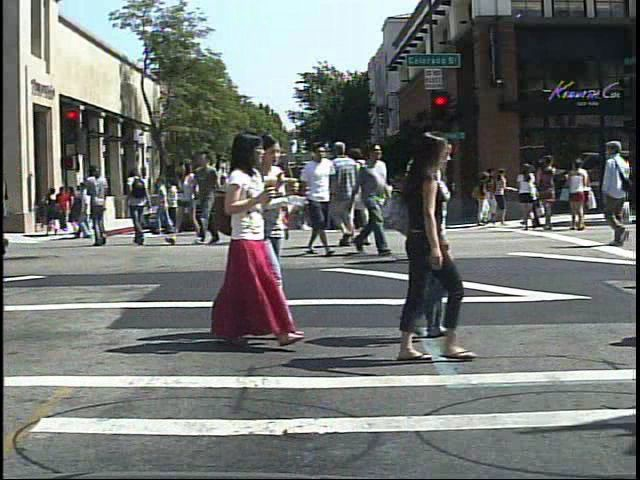person: (366, 130, 495, 366), (211, 127, 297, 351), (388, 132, 473, 344), (397, 133, 453, 264), (253, 131, 289, 316), (365, 137, 411, 261), (299, 134, 339, 261), (599, 133, 634, 249), (331, 139, 367, 247), (166, 156, 206, 249), (229, 146, 264, 246), (351, 144, 383, 250), (195, 148, 226, 247), (260, 150, 291, 247), (81, 164, 113, 246), (125, 164, 154, 247), (515, 159, 543, 234), (294, 163, 315, 232), (56, 183, 76, 233)
